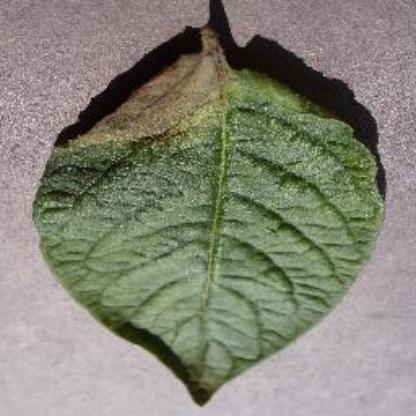Late-Blight: (37, 21, 398, 402)
